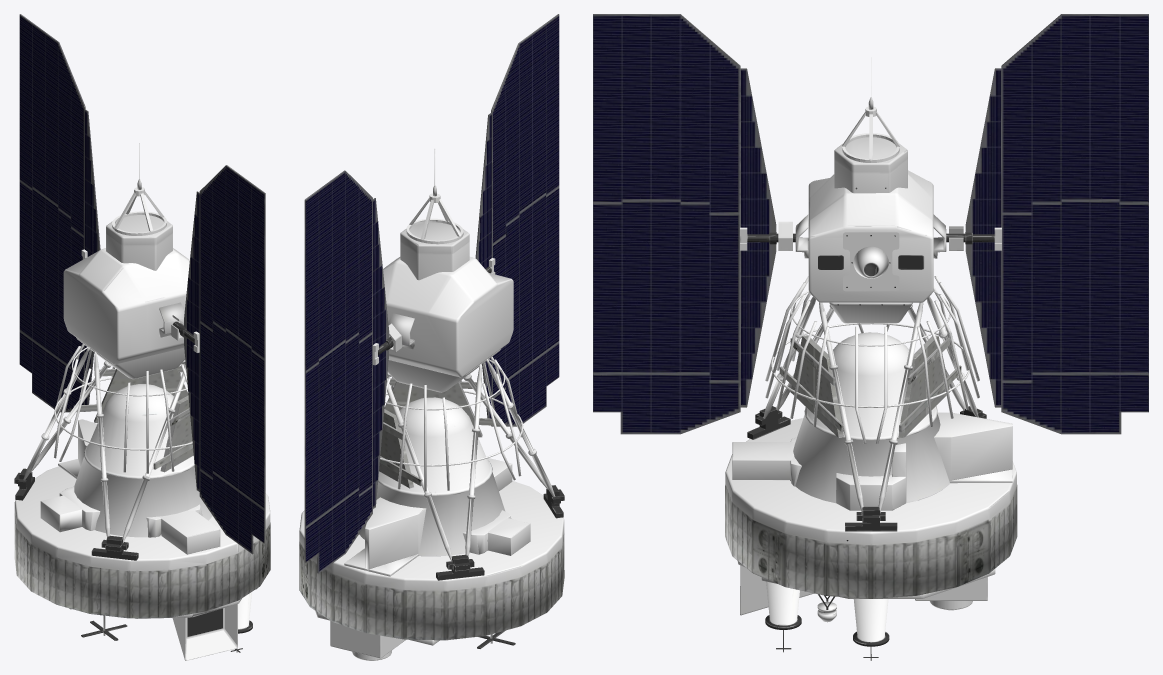
The model's file is landsat-1-2-3-ligero.glb.
3 renders of one model, left to right at view 1: azimuth 30°, elevation 25°; view 2: azimuth 150°, elevation 25°; view 3: azimuth 270°, elevation 25°, orthographic. The views are drawn at different scales.
Parts seen in each view (by area): view 1: L1_Baked; view 2: L1_Baked; view 3: L1_Baked.
Boxes of the visible parts, <box> form: L1_Baked: <box>14,14,270,660</box>; L1_Baked: <box>299,14,564,660</box>; L1_Baked: <box>593,14,1148,660</box>.
Size of the model in its own units: 2.02 by 4.58 by 3.81.
Materials: 1 (1 with a texture image).
